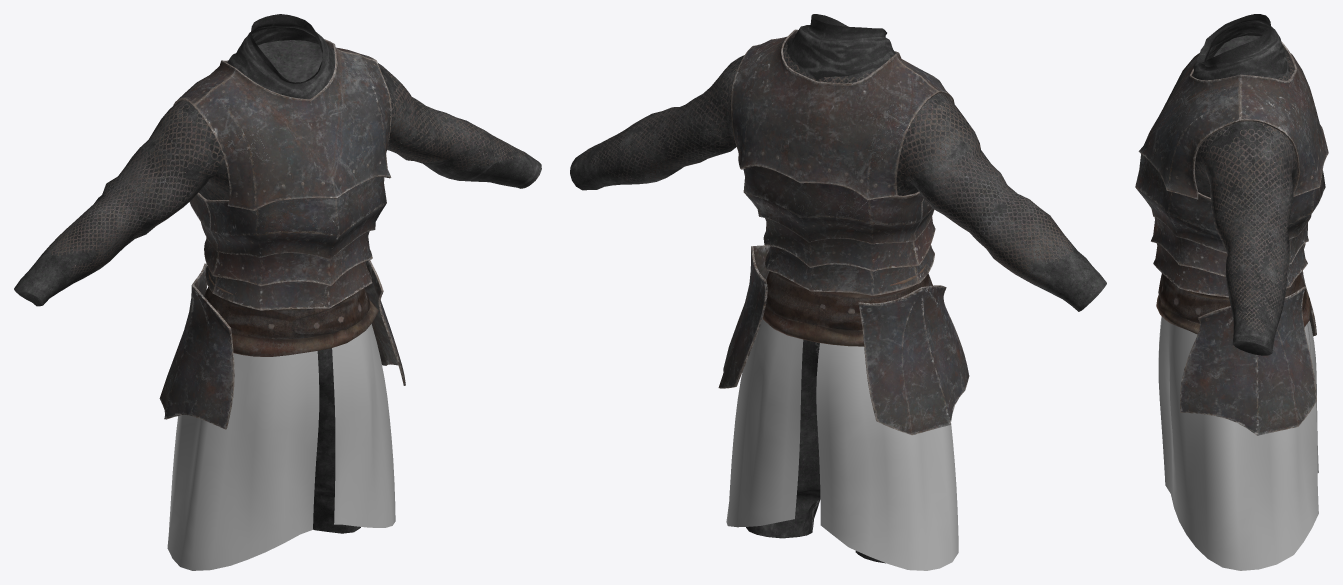
File: sk_dg_uruk_chest_heavy_a.fbx
3 views of the same model, side by side, from view 1: azimuth 30°, elevation 25°; view 2: azimuth 150°, elevation 25°; view 3: azimuth 270°, elevation 25° (orthographic). The views are drawn at different scales.
Parts seen in each view (by area): view 1: sk_dg_uruk_chest_heavy_a.2, sk_dg_uruk_chest_heavy_a.skirt.0, sk_dg_uruk_chest_heavy_a.0, sk_dg_uruk_chest_heavy_a.skirt.1, sk_dg_uruk_chest_heavy_a.1; view 2: sk_dg_uruk_chest_heavy_a.2, sk_dg_uruk_chest_heavy_a.0, sk_dg_uruk_chest_heavy_a.skirt.0, sk_dg_uruk_chest_heavy_a.skirt.1, sk_dg_uruk_chest_heavy_a.1; view 3: sk_dg_uruk_chest_heavy_a.skirt.0, sk_dg_uruk_chest_heavy_a.2, sk_dg_uruk_chest_heavy_a.0, sk_dg_uruk_chest_heavy_a.skirt.1, sk_dg_uruk_chest_heavy_a.1.
Boxes of the visible parts, x1=… form: sk_dg_uruk_chest_heavy_a.2: x1=173, y1=39, x2=391, y2=310; sk_dg_uruk_chest_heavy_a.skirt.0: x1=167, y1=324, x2=395, y2=570; sk_dg_uruk_chest_heavy_a.0: x1=14, y1=14, x2=541, y2=533; sk_dg_uruk_chest_heavy_a.skirt.1: x1=159, y1=260, x2=405, y2=429; sk_dg_uruk_chest_heavy_a.1: x1=204, y1=271, x2=378, y2=356; sk_dg_uruk_chest_heavy_a.2: x1=731, y1=29, x2=954, y2=295; sk_dg_uruk_chest_heavy_a.0: x1=570, y1=14, x2=1106, y2=563; sk_dg_uruk_chest_heavy_a.skirt.0: x1=726, y1=319, x2=958, y2=570; sk_dg_uruk_chest_heavy_a.skirt.1: x1=718, y1=245, x2=969, y2=435; sk_dg_uruk_chest_heavy_a.1: x1=762, y1=264, x2=932, y2=346; sk_dg_uruk_chest_heavy_a.skirt.0: x1=1158, y1=316, x2=1318, y2=570; sk_dg_uruk_chest_heavy_a.2: x1=1135, y1=36, x2=1328, y2=297; sk_dg_uruk_chest_heavy_a.0: x1=1192, y1=14, x2=1297, y2=355; sk_dg_uruk_chest_heavy_a.skirt.1: x1=1180, y1=243, x2=1316, y2=435; sk_dg_uruk_chest_heavy_a.1: x1=1156, y1=273, x2=1310, y2=334.
Size of the model in its own units: 1.35 by 0.4491 by 1.28.
